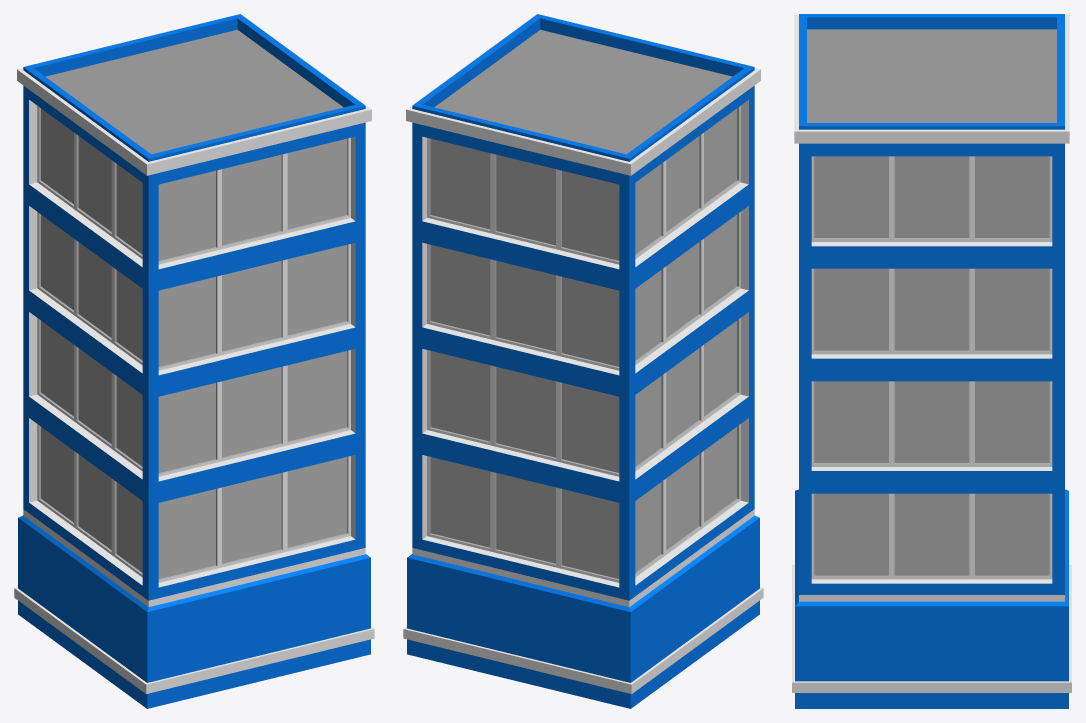
The model's file is SM_House_05_05.FBX.
The picture shows the model from 3 angles, left to right: view 1: azimuth 30°, elevation 25°; view 2: azimuth 150°, elevation 25°; view 3: azimuth 270°, elevation 25°; orthographic projection. The views are drawn at different scales.
Parts seen in each view (by area): view 1: SM_House_05_05; view 2: SM_House_05_05; view 3: SM_House_05_05.
Boxes of the visible parts, box(x1,y1,x2,y2) form: SM_House_05_05: box(14, 14, 374, 708); SM_House_05_05: box(403, 14, 763, 708); SM_House_05_05: box(792, 14, 1071, 708).
Bounding box in the file's own units: 3.16 × 7.23 × 3.16.
1 material, 1 textured.
